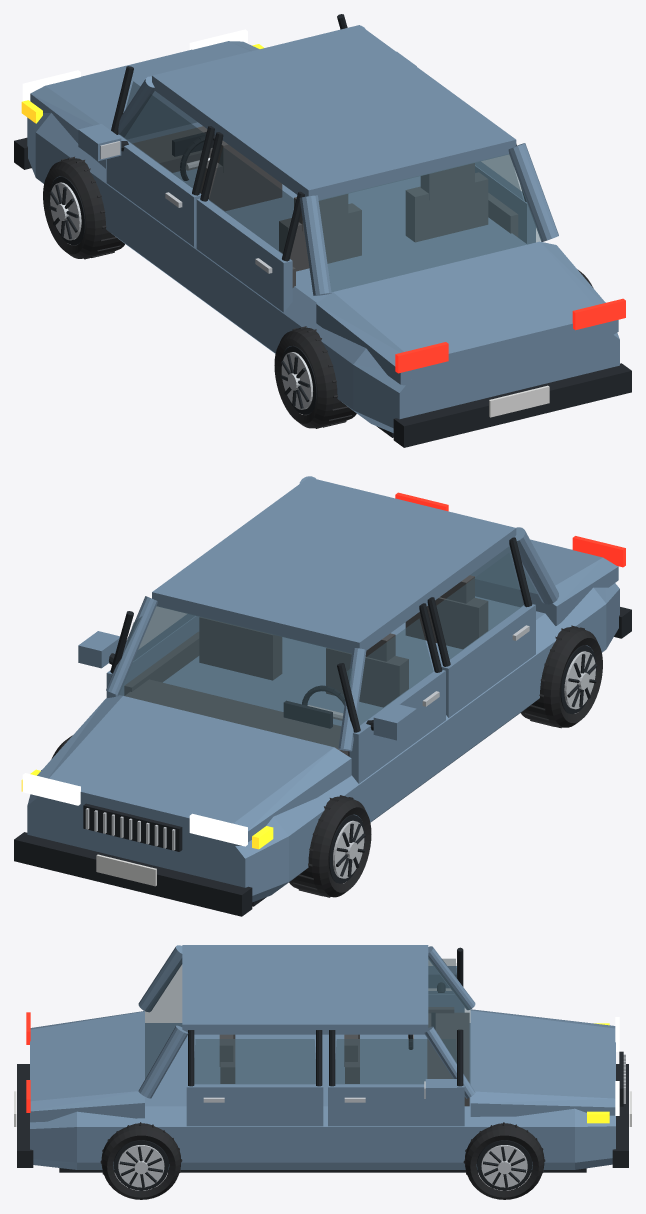
The model's file is sedan.glb.
The picture shows the model from 3 angles, top to bottom: view 1: azimuth 30°, elevation 25°; view 2: azimuth 150°, elevation 25°; view 3: azimuth 270°, elevation 25°; orthographic projection. The views are drawn at different scales.
Parts seen in each view (by area): view 1: Body, Door_FL, Door_RL, Wheel_RL, Wheel_FL, Door_RR; view 2: Body, Door_RL, Door_FL, Door_FR, Wheel_FL, Wheel_RL; view 3: Body, Door_RR, Door_FR, Wheel_RR, Wheel_FR, Door_FL.
Boxes of the visible parts, bbox=[...] form: Body: bbox=[14, 25, 631, 447]; Door_FL: bbox=[78, 66, 214, 246]; Door_RL: bbox=[196, 132, 304, 312]; Wheel_RL: bbox=[274, 326, 356, 428]; Wheel_FL: bbox=[43, 156, 124, 259]; Door_RR: bbox=[475, 144, 535, 244]; Body: bbox=[14, 476, 631, 916]; Door_RL: bbox=[427, 537, 535, 717]; Door_FL: bbox=[337, 603, 445, 783]; Door_FR: bbox=[78, 607, 199, 697]; Wheel_FL: bbox=[289, 795, 371, 897]; Wheel_RL: bbox=[521, 625, 602, 728]; Body: bbox=[14, 945, 631, 1172]; Door_RR: bbox=[186, 1030, 323, 1126]; Door_FR: bbox=[328, 1029, 464, 1126]; Wheel_RR: bbox=[100, 1122, 182, 1199]; Wheel_FR: bbox=[463, 1122, 545, 1199]; Door_FL: bbox=[428, 947, 464, 1013].
Size of what is drawn, in the model's own units: 2.32 by 1.45 by 4.96.
